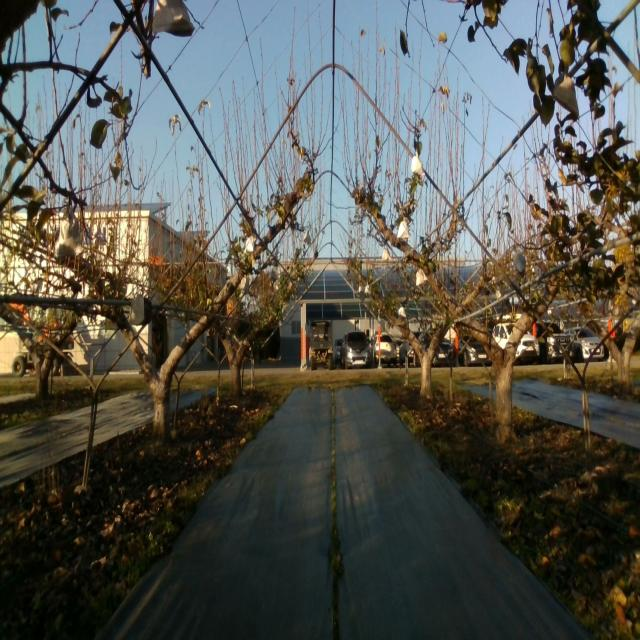pearbags: (152, 0, 195, 37), (552, 73, 579, 119), (58, 206, 82, 256), (514, 250, 528, 278), (411, 150, 425, 177), (397, 217, 409, 239)
